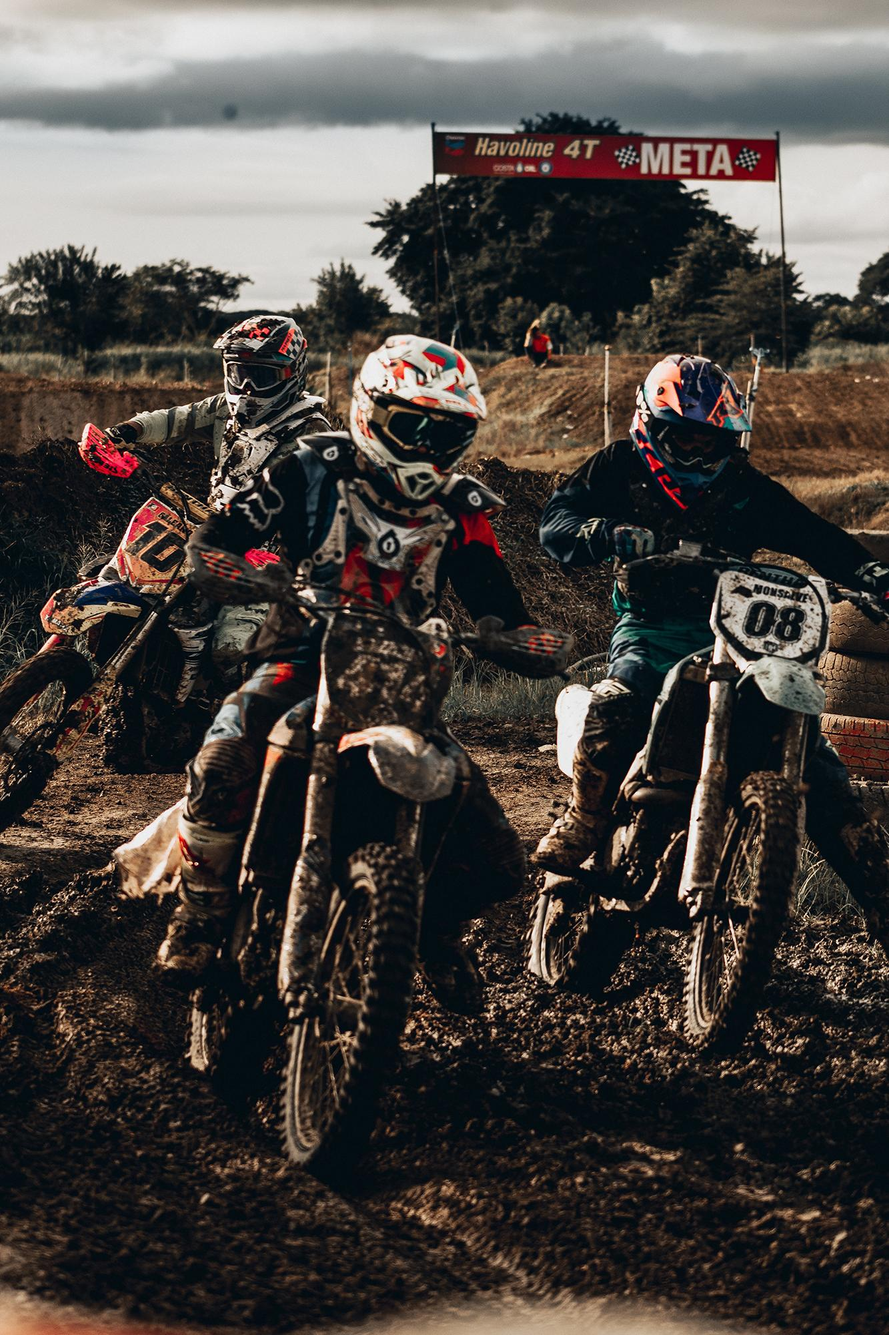helmet: (349, 332, 490, 508), (628, 350, 755, 517), (210, 313, 311, 430)
